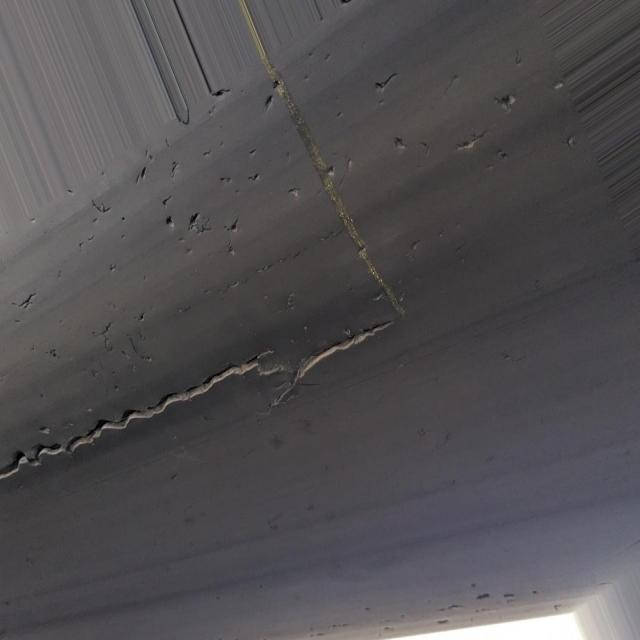Puncture: (131, 147, 253, 256), (367, 57, 416, 104), (493, 80, 530, 122), (450, 116, 490, 154), (385, 129, 421, 168)
Tear: (0, 0, 424, 496)
